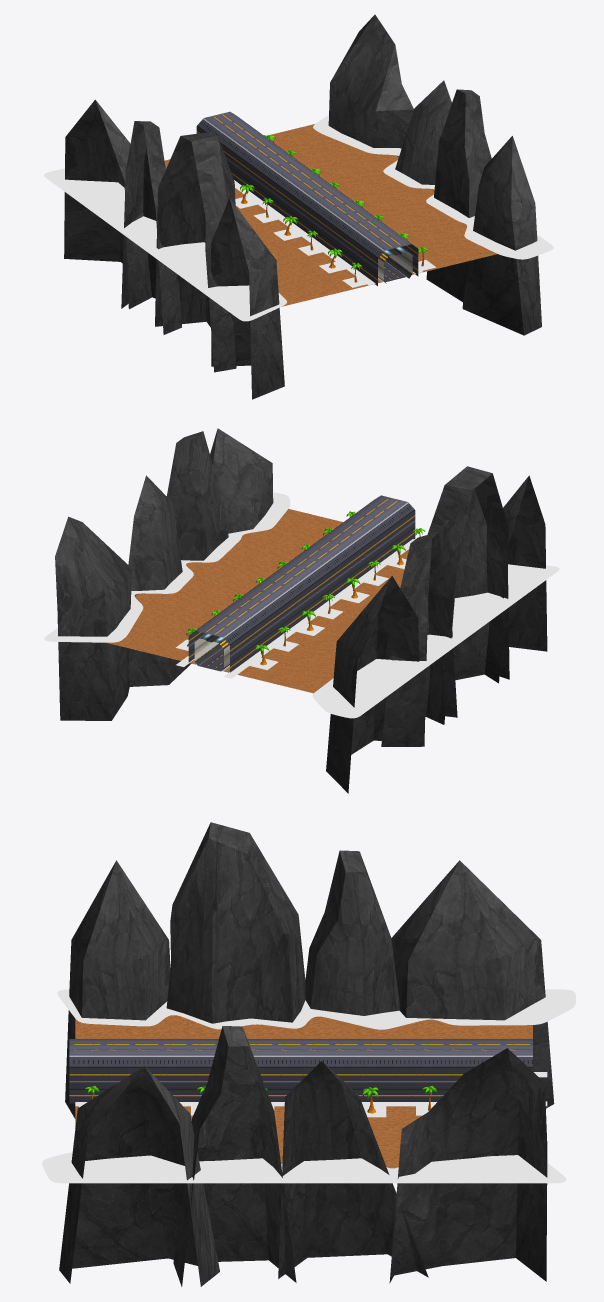
The model's file is Mexico_09.fbx.
3 views of the same model, one above another, from view 1: azimuth 30°, elevation 25°; view 2: azimuth 150°, elevation 25°; view 3: azimuth 270°, elevation 25° (orthographic). The views are drawn at different scales.
Parts seen in each view (by area): view 1: Mexico_09; view 2: Mexico_09; view 3: Mexico_09.
Part boxes in pixels (x1,y1,x2,y2): Mexico_09: (44, 14, 553, 399); Mexico_09: (44, 428, 559, 793); Mexico_09: (42, 822, 575, 1286).
Size of the model in its own units: 22617 by 13384 by 25170.
8 materials, 8 textured.
